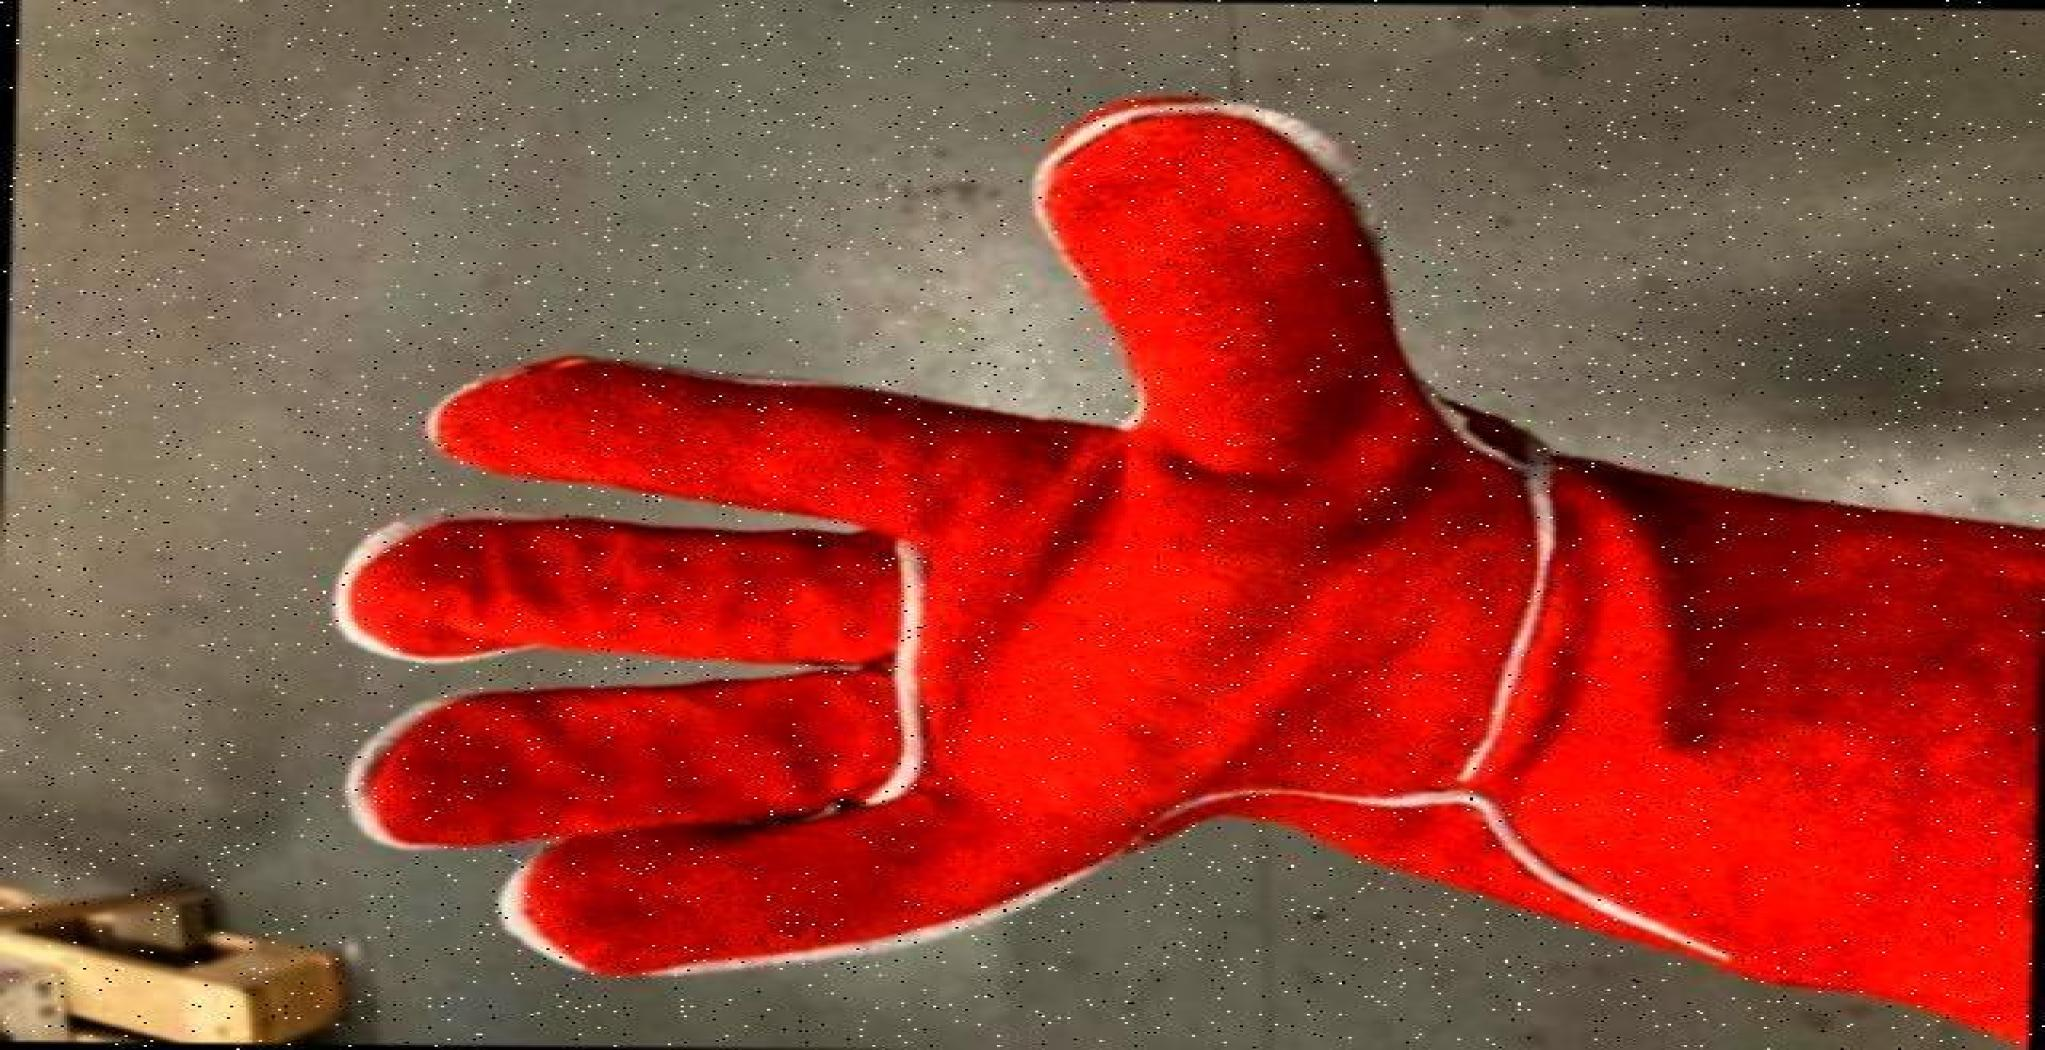gloved: (401, 94, 2045, 1017)
